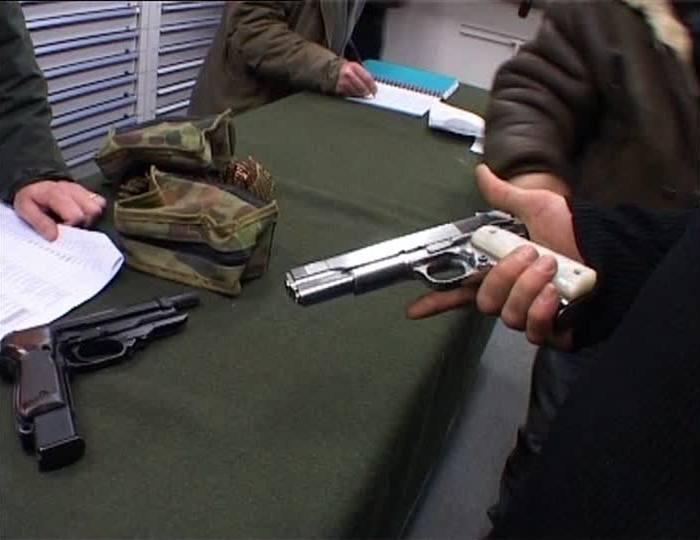gun: (274, 200, 603, 326), (0, 287, 207, 472)
